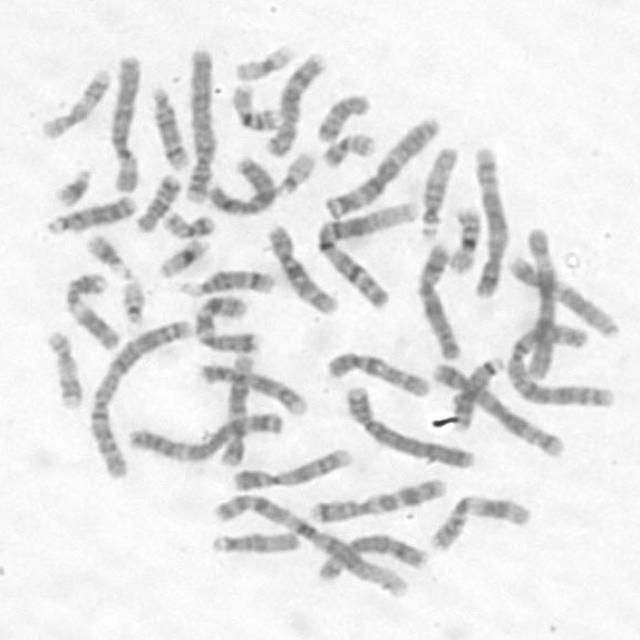A1: (208, 491, 415, 602), (311, 194, 420, 312)
A2: (84, 311, 195, 481), (502, 318, 619, 410)
A3: (321, 112, 443, 221), (124, 407, 285, 463)
B4: (344, 380, 478, 469), (180, 42, 217, 204)
B5: (426, 356, 566, 458), (469, 142, 511, 300)
C10: (261, 221, 339, 315), (322, 346, 434, 400)
C11: (423, 492, 533, 554), (60, 265, 125, 351)
C12: (505, 250, 622, 340), (216, 350, 256, 468)
C6: (518, 220, 561, 380), (105, 50, 144, 194)
C7: (307, 473, 448, 526), (189, 290, 261, 354)
C8: (261, 48, 328, 158), (311, 528, 430, 582)
C9: (194, 361, 308, 417), (228, 442, 354, 492)
D13: (446, 352, 506, 431), (40, 189, 140, 235)
D14: (146, 81, 192, 171), (178, 266, 276, 300)
D15: (416, 141, 461, 239), (206, 524, 304, 556)
E16: (229, 79, 284, 133), (445, 202, 483, 276)
E17: (36, 64, 114, 141), (42, 325, 85, 410)
E18: (312, 89, 372, 144), (133, 171, 183, 233)
F19: (231, 38, 299, 82), (154, 233, 213, 280)
F20: (318, 129, 377, 170), (158, 204, 216, 239)
G21: (82, 229, 135, 279), (48, 162, 95, 210)
G22: (274, 148, 317, 196), (116, 271, 148, 325)
X: (411, 237, 465, 362), (202, 152, 279, 218)
